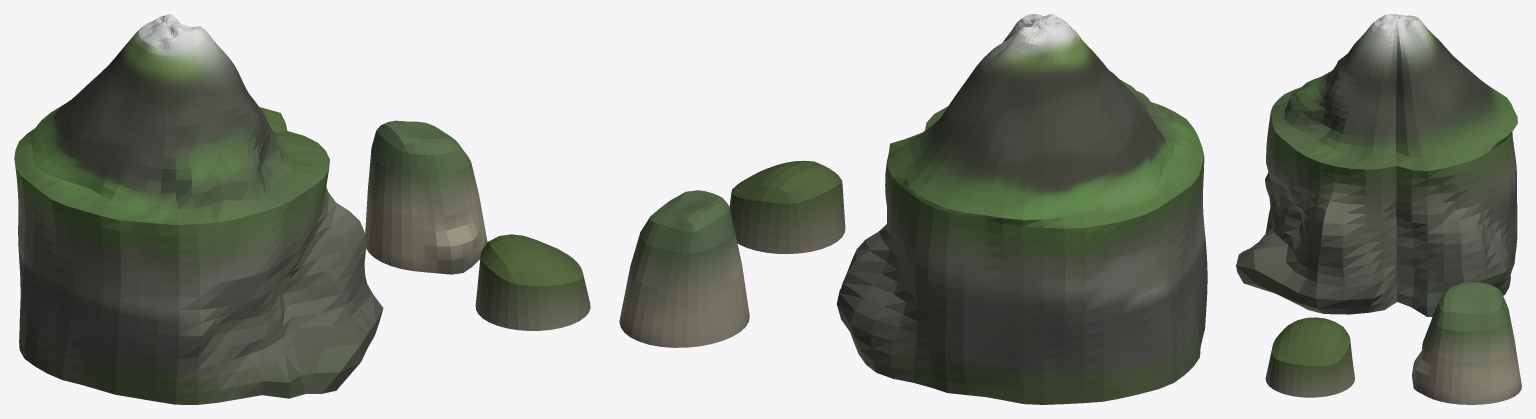
Rendered from mountain.glb.
3 renders of one model, left to right at view 1: azimuth 30°, elevation 25°; view 2: azimuth 150°, elevation 25°; view 3: azimuth 270°, elevation 25°, orthographic. The views are drawn at different scales.
Parts seen in each view (by area): view 1: world.001, Cylinder.001, Cylinder; view 2: world.001, Cylinder.001, Cylinder; view 3: world.001, Cylinder.001, Cylinder.
Boxes of the visible parts, <box> form: world.001: <box>14,14,383,404</box>; Cylinder.001: <box>365,120,487,274</box>; Cylinder: <box>475,234,590,330</box>; world.001: <box>836,14,1207,404</box>; Cylinder.001: <box>619,190,749,347</box>; Cylinder: <box>729,160,845,253</box>; world.001: <box>1236,14,1517,316</box>; Cylinder.001: <box>1412,282,1521,404</box>; Cylinder: <box>1265,317,1354,397</box>.
Bounding box in the file's own units: 29.59 × 19.1 × 19.16.
